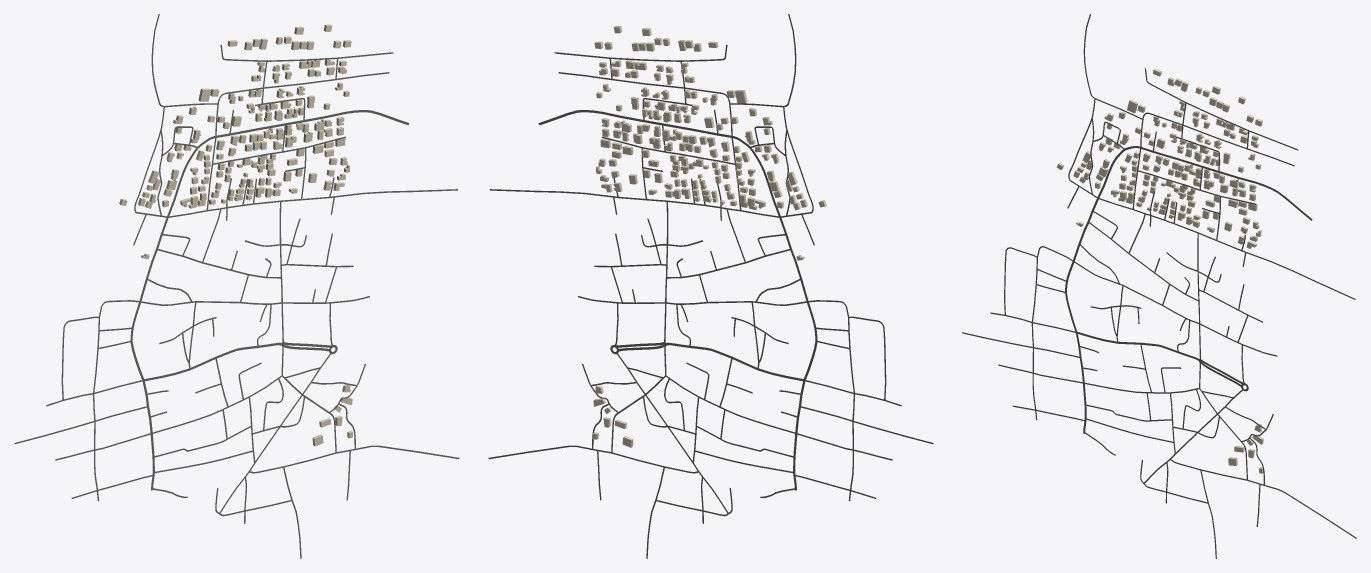
Rendered from irbid_3593_3264.glb.
The picture shows the model from 3 angles, left to right: view 1: azimuth 30°, elevation 25°; view 2: azimuth 150°, elevation 25°; view 3: azimuth 330°, elevation 25°; orthographic projection. The views are drawn at different scales.
Parts seen in each view (by area): view 1: Road .002, Road .057, Road .052, Road .028; view 2: Road .002, Road .057, Road .052, Road .028; view 3: Road .002, Road .057, Road .052.
Part boxes in pixels (bbox=[...]): Road .002: bbox=[130, 110, 409, 432]; Road .057: bbox=[93, 296, 369, 501]; Road .052: bbox=[136, 189, 457, 217]; Road .028: bbox=[279, 202, 336, 452]; Road .002: bbox=[538, 110, 817, 433]; Road .057: bbox=[578, 296, 854, 501]; Road .052: bbox=[490, 189, 811, 217]; Road .028: bbox=[611, 201, 668, 452]; Road .002: bbox=[1065, 146, 1312, 382]; Road .057: bbox=[1031, 246, 1277, 420]; Road .052: bbox=[1069, 180, 1355, 299].
Size of the model in its own units: 1011 by 1258 by 8.7.
